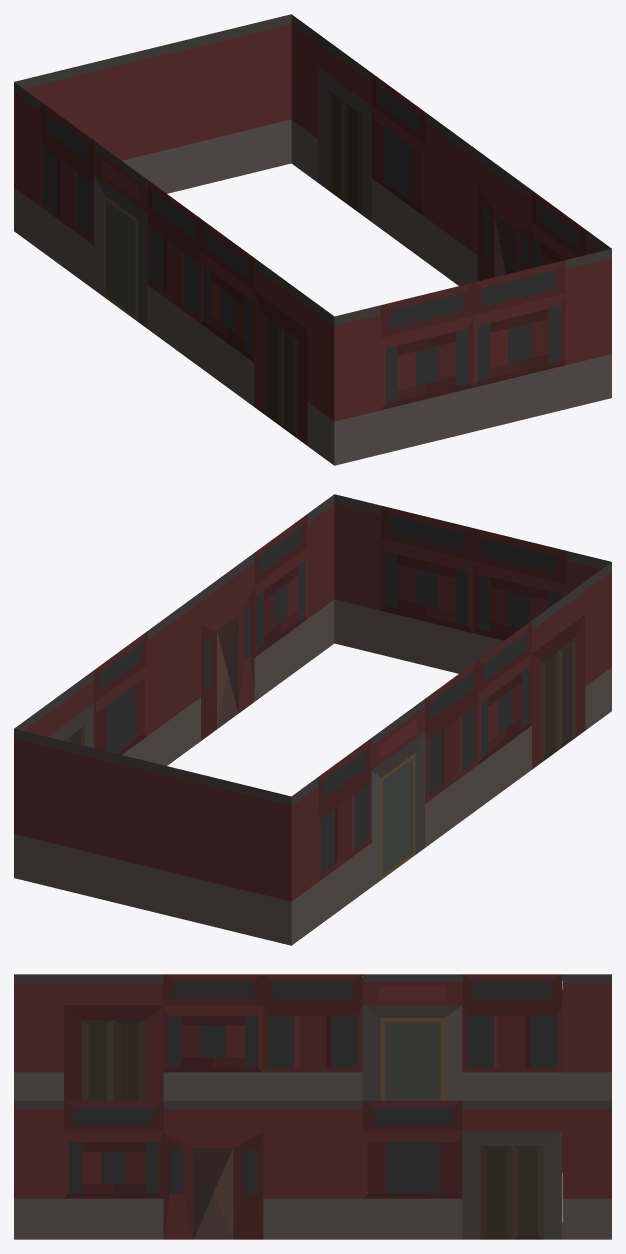
The model's file is BuildingA-Ext_CLOD2.fbx.
3 views of the same model, one above another, from view 1: azimuth 30°, elevation 25°; view 2: azimuth 150°, elevation 25°; view 3: azimuth 270°, elevation 25° (orthographic). The views are drawn at different scales.
Parts seen in each view (by area): view 1: BuildingA-Ext_CLOD2; view 2: BuildingA-Ext_CLOD2; view 3: BuildingA-Ext_CLOD2.
Boxes of the visible parts, x1,y1,x2,y2 form: BuildingA-Ext_CLOD2: (14, 14, 611, 465); BuildingA-Ext_CLOD2: (14, 494, 611, 945); BuildingA-Ext_CLOD2: (14, 974, 611, 1239).
Bounding box in the file's own units: 750 × 386 × 1500.
